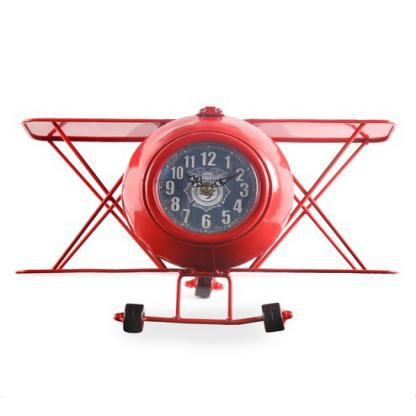CIV_Plane: (25, 6, 406, 300)
